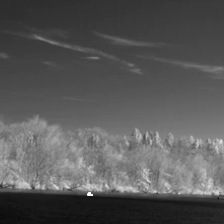Target: (86, 191, 94, 197)
